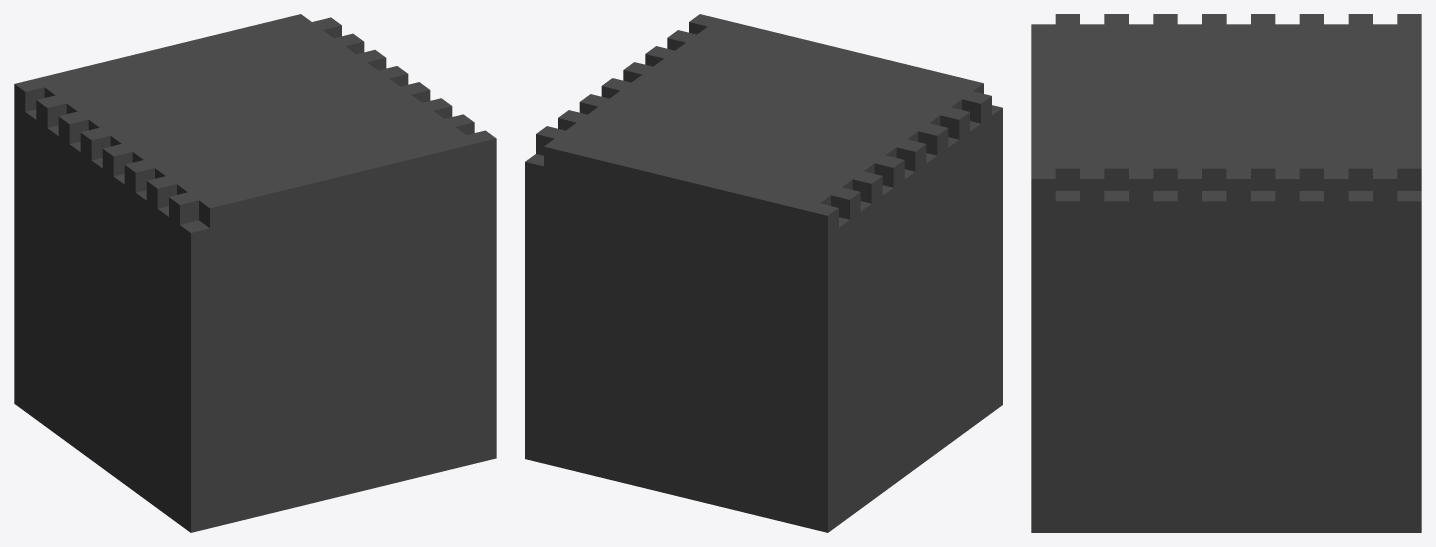
The model's file is Moyou3.obj.
The picture shows the model from 3 angles, left to right: view 1: azimuth 30°, elevation 25°; view 2: azimuth 150°, elevation 25°; view 3: azimuth 270°, elevation 25°; orthographic projection. The views are drawn at different scales.
Visible parts, largest first — view 1: Moyou3; view 2: Moyou3; view 3: Moyou3.
Boxes of the visible parts, <box> form: Moyou3: <box>14,14,496,532</box>; Moyou3: <box>525,14,1002,532</box>; Moyou3: <box>1031,14,1421,532</box>.
Bounding box in the file's own units: 16 × 16 × 16.
1 material, 1 textured.
